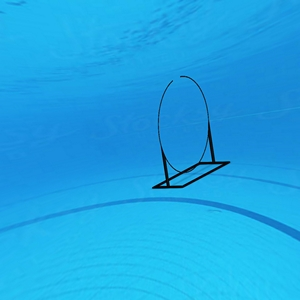circle: (148, 74, 232, 193)
